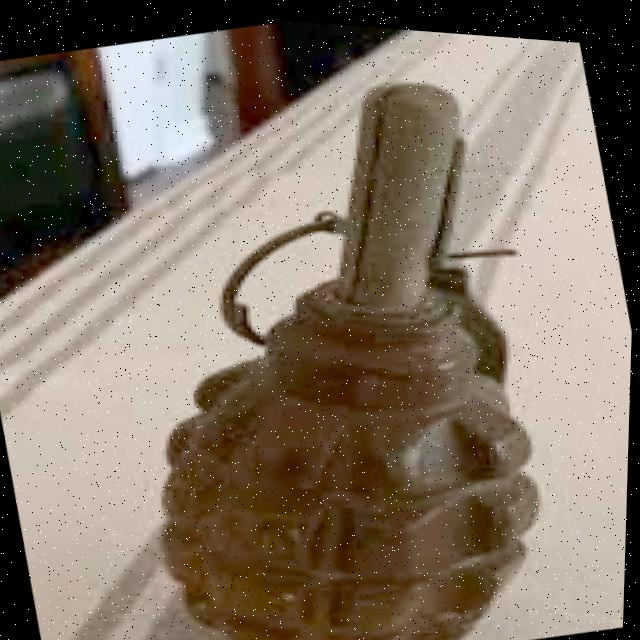grenade: (35, 3, 640, 640)
